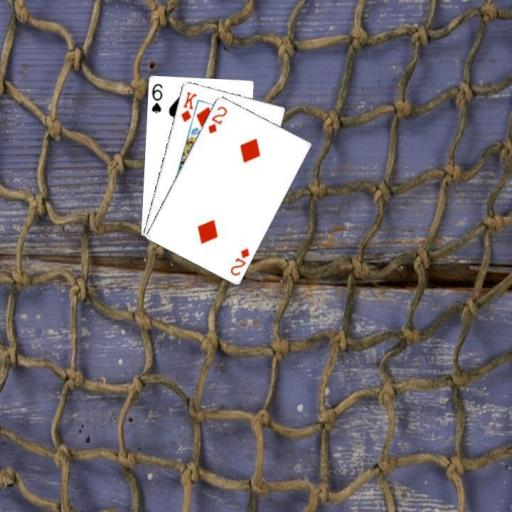card-corner: (227, 245, 251, 277), (205, 103, 228, 135), (178, 88, 198, 124), (148, 80, 163, 114)
